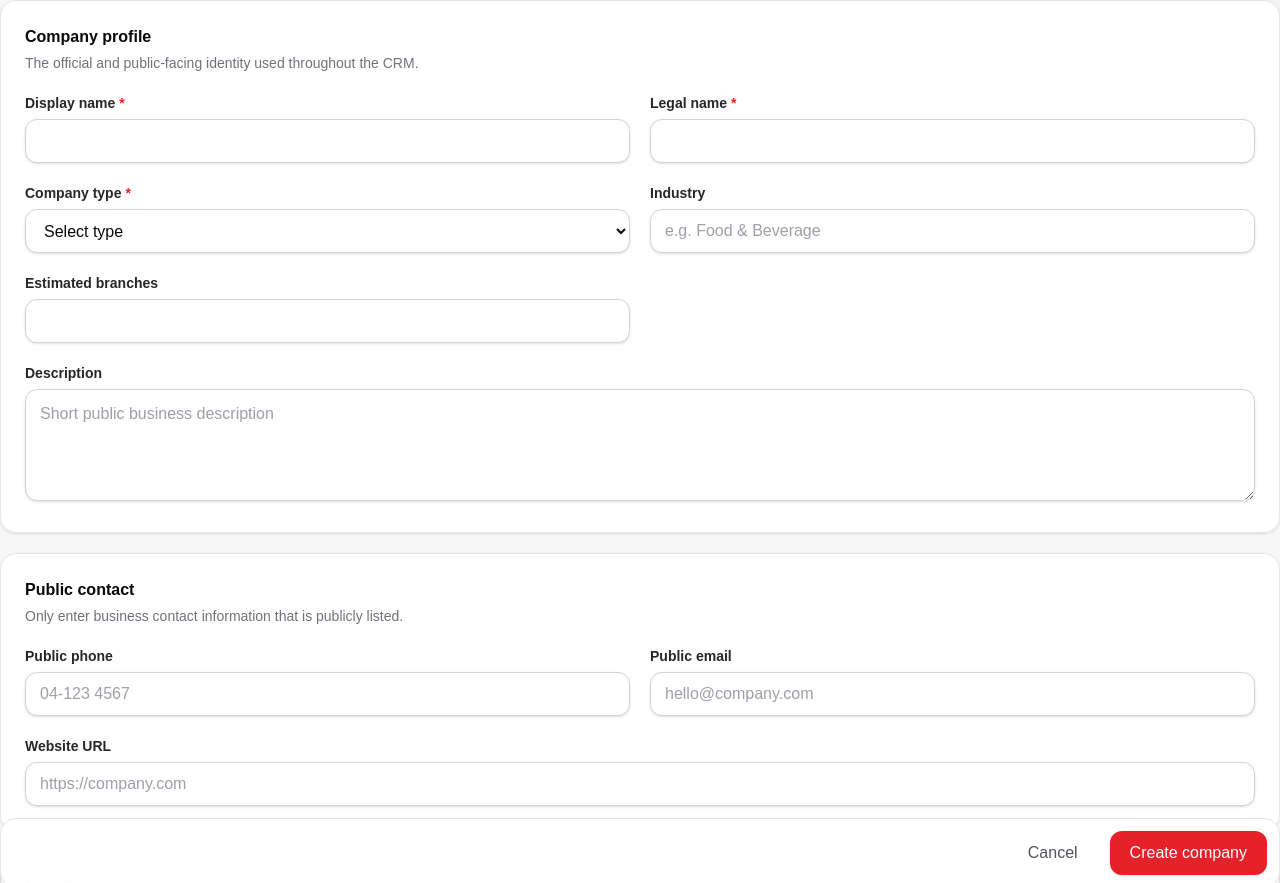
Companies UI › renders field validation returned by the server action
Click the button "Create company" at (1188, 853), box [1110, 831, 1267, 875]
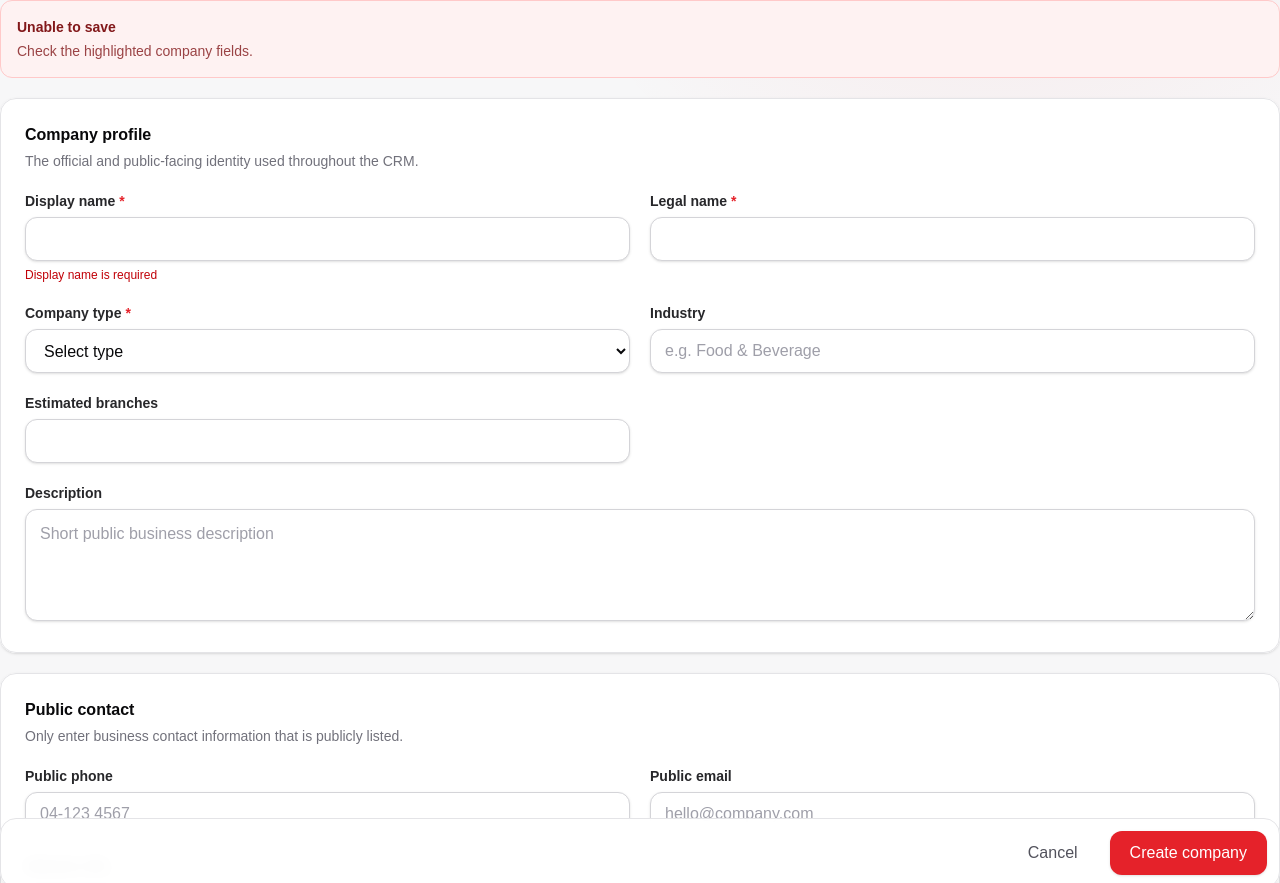
Check: the text "Display name is required" is shown, box [25, 268, 157, 282]
